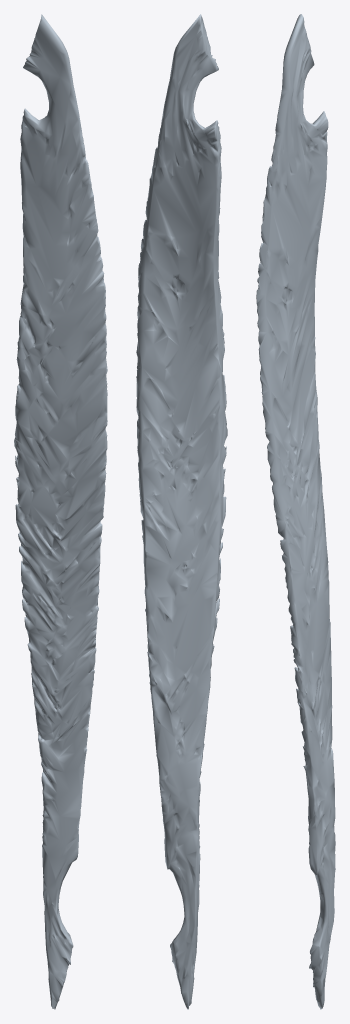
File: interosseous-membrane-of-leg-r.glb
3 renders of one model, left to right at view 1: azimuth 30°, elevation 25°; view 2: azimuth 210°, elevation 25°; view 3: azimuth 270°, elevation 25°, orthographic. The views are drawn at different scales.
Parts seen in each view (by area): view 1: Interosseous membrane of leg.r; view 2: Interosseous membrane of leg.r; view 3: Interosseous membrane of leg.r.
Boxes of the visible parts, x1=… form: Interosseous membrane of leg.r: x1=14, y1=14, x2=107, y2=1009; Interosseous membrane of leg.r: x1=136, y1=14, x2=227, y2=1009; Interosseous membrane of leg.r: x1=256, y1=14, x2=335, y2=1009.
Bounding box in the file's own units: 0.0225 × 0.2927 × 0.0214.
